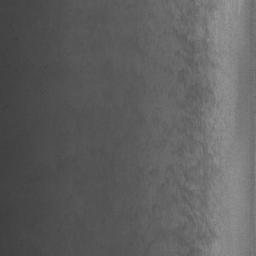Silk spot: (172, 78, 220, 208), (173, 17, 215, 88), (172, 208, 217, 256), (181, 0, 217, 26), (176, 182, 195, 211), (134, 37, 147, 62), (136, 116, 146, 125)
